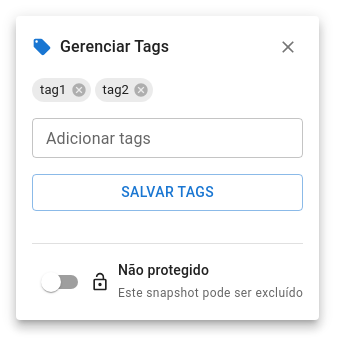
SnapshotTagsPopover › Edge Cases › can add new tag via autocomplete
The width and height of the screenshot is (342, 350).
Step 1. Type "newtag" into the dropdown labelled "Adicionar tags" → (151, 138), box [38,124,264,152]
Then press Enter
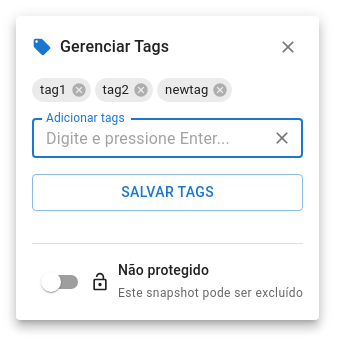
Expected: the text "newtag" is shown, [165,82,208,97]
